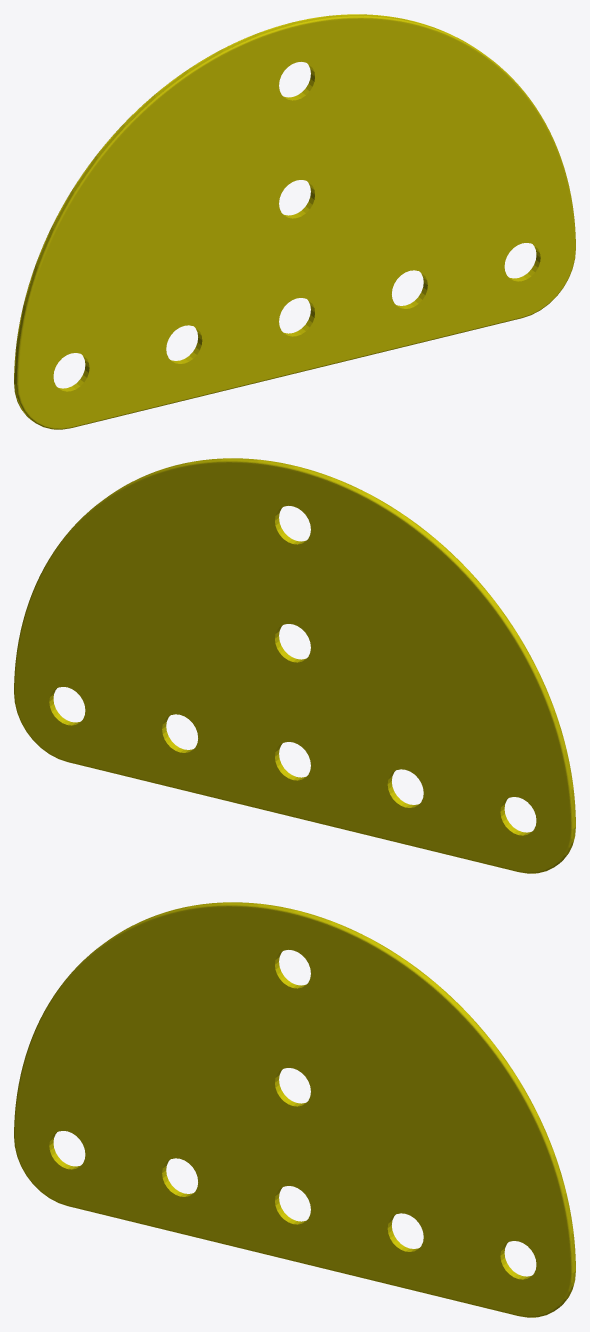
Rendered from TamNuaTron_KimLoai_Vang.glb.
The picture shows the model from 3 angles, top to bottom: view 1: azimuth 30°, elevation 25°; view 2: azimuth 150°, elevation 25°; view 3: azimuth 330°, elevation 25°; orthographic projection.
Parts seen in each view (by area): view 1: defaultobject.001; view 2: defaultobject.001; view 3: defaultobject.001.
Boxes of the visible parts, x1=… form: defaultobject.001: x1=14, y1=14, x2=575, y2=429; defaultobject.001: x1=14, y1=458, x2=575, y2=873; defaultobject.001: x1=14, y1=902, x2=575, y2=1317.
Size of the model in its own units: 186 by 111 by 2.4.
